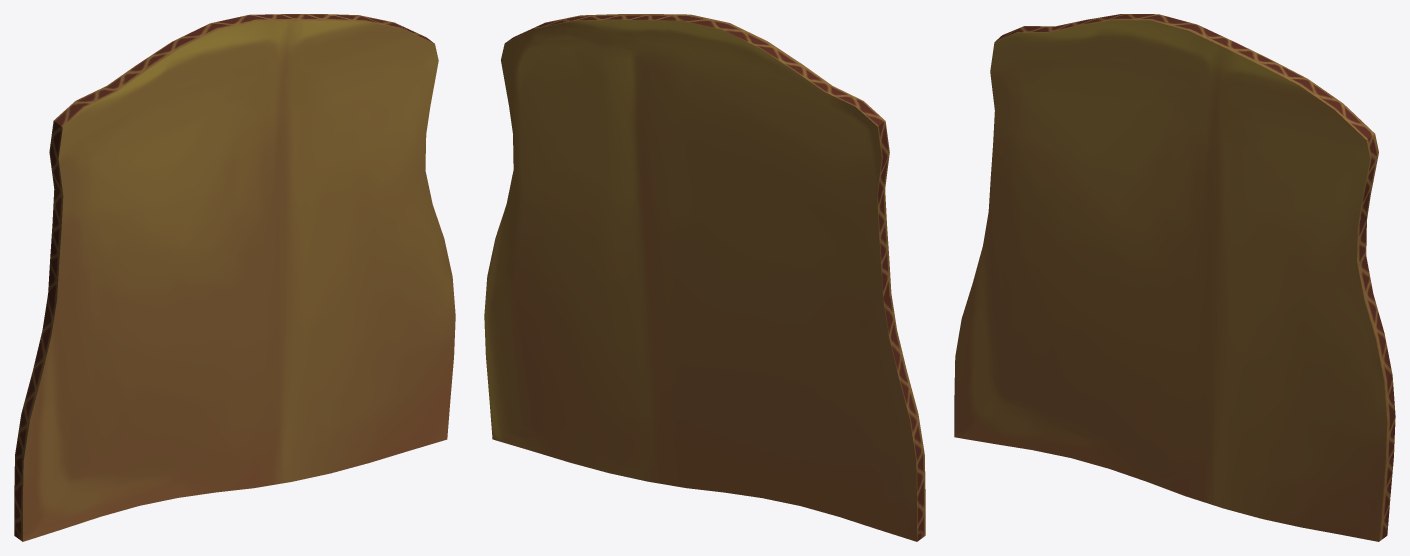
Rendered from cartón_Pj_2.fbx.
The picture shows the model from 3 angles, left to right: view 1: azimuth 30°, elevation 25°; view 2: azimuth 150°, elevation 25°; view 3: azimuth 330°, elevation 25°; orthographic projection.
Parts seen in each view (by area): view 1: Carton_Pj_2; view 2: Carton_Pj_2; view 3: Carton_Pj_2.
Boxes of the visible parts, box(x1,y1,x2,y2) form: Carton_Pj_2: box(14, 14, 455, 541); Carton_Pj_2: box(484, 14, 925, 541); Carton_Pj_2: box(954, 14, 1395, 541).
Bounding box in the file's own units: 204 × 213 × 7.
1 material, 1 textured.
